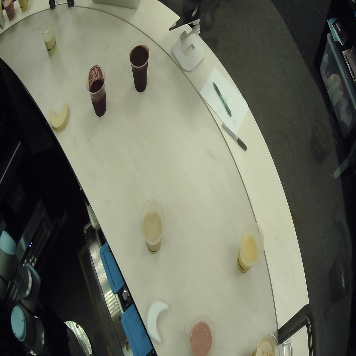full_cup: (135, 194, 170, 260), (234, 214, 264, 284), (84, 61, 111, 120), (186, 312, 218, 356), (127, 41, 152, 96), (40, 23, 63, 63), (250, 329, 283, 356), (1, 1, 23, 25)
puck: (138, 297, 175, 346), (46, 101, 74, 134)
